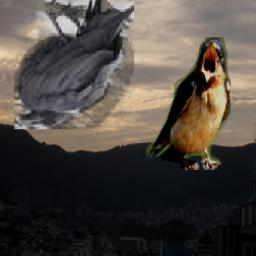Crow: (14, 0, 134, 130)
Swallow: (147, 37, 232, 170)
